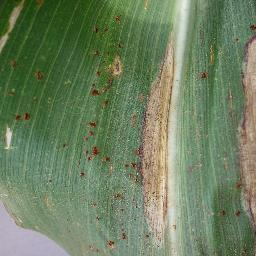Corn_Blight: (130, 31, 178, 254), (77, 4, 123, 188), (235, 18, 256, 254), (89, 190, 130, 255), (0, 111, 36, 153), (196, 26, 221, 83), (213, 201, 232, 227), (34, 65, 48, 89), (7, 51, 21, 75), (3, 87, 22, 102), (41, 174, 55, 191), (58, 140, 72, 152)
